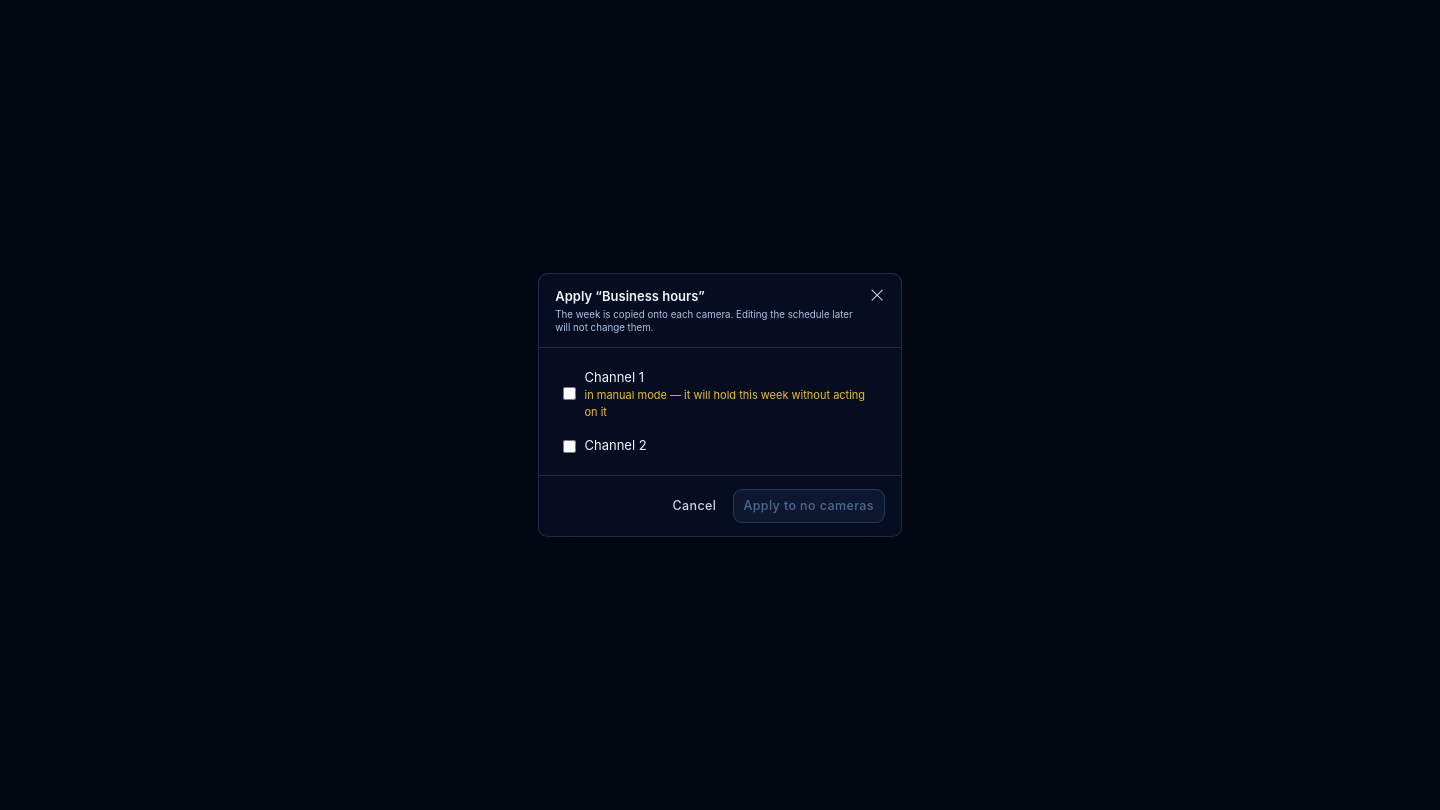
it: before the button is pressed › counts what is about to happen, in the right grammar
Expected: the button "Apply to no cameras" is shown, left=733, top=489, right=885, bottom=523
Expected: the text "Channel 1" is shown, left=584, top=369, right=644, bottom=385
Click the 1st checkbox: (570, 394) left=563, top=387, right=576, bottom=400
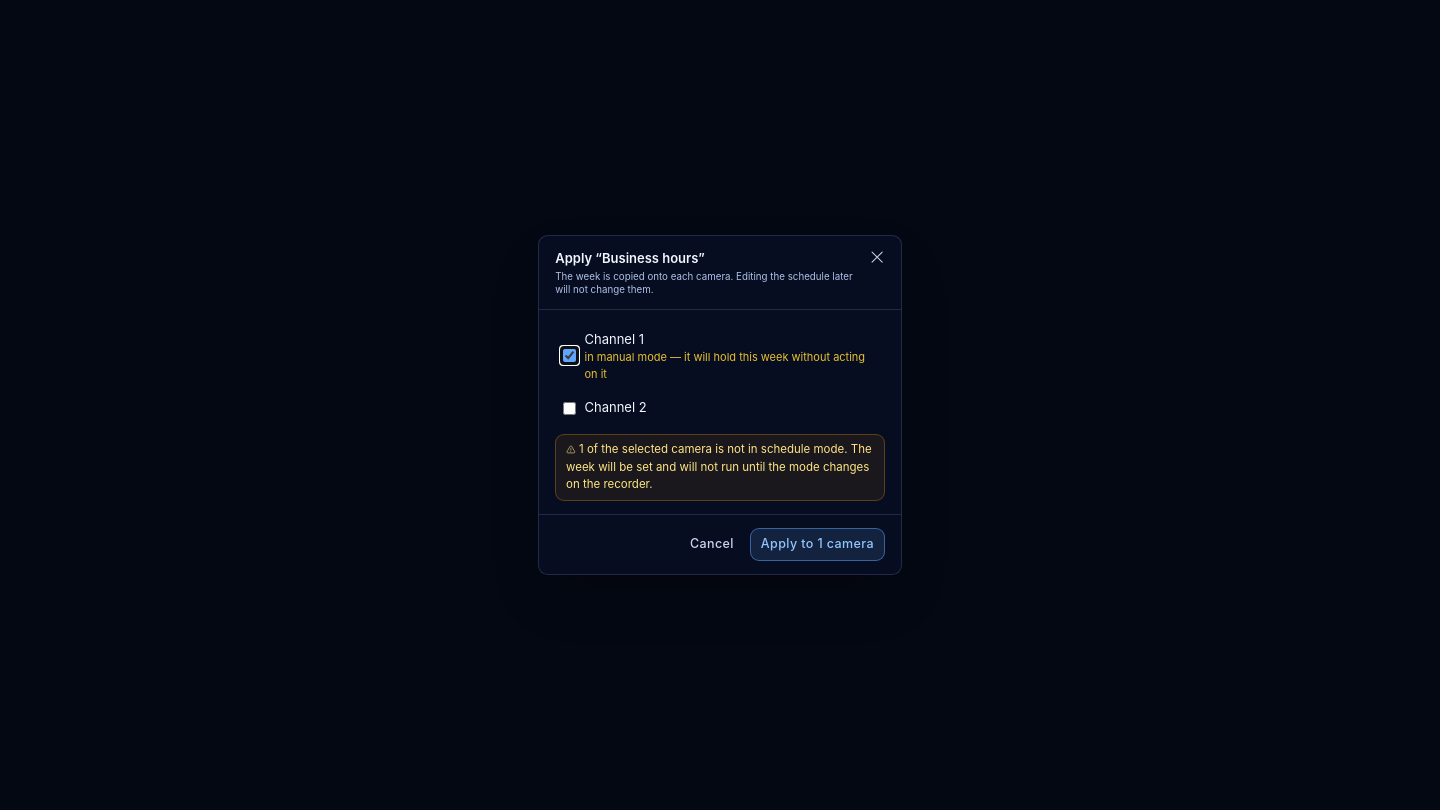
Expected: the button "Apply to 1 camera" is shown, left=750, top=528, right=885, bottom=561
Click the checkbox labelled "Channel 2": (570, 408) left=563, top=401, right=576, bottom=414
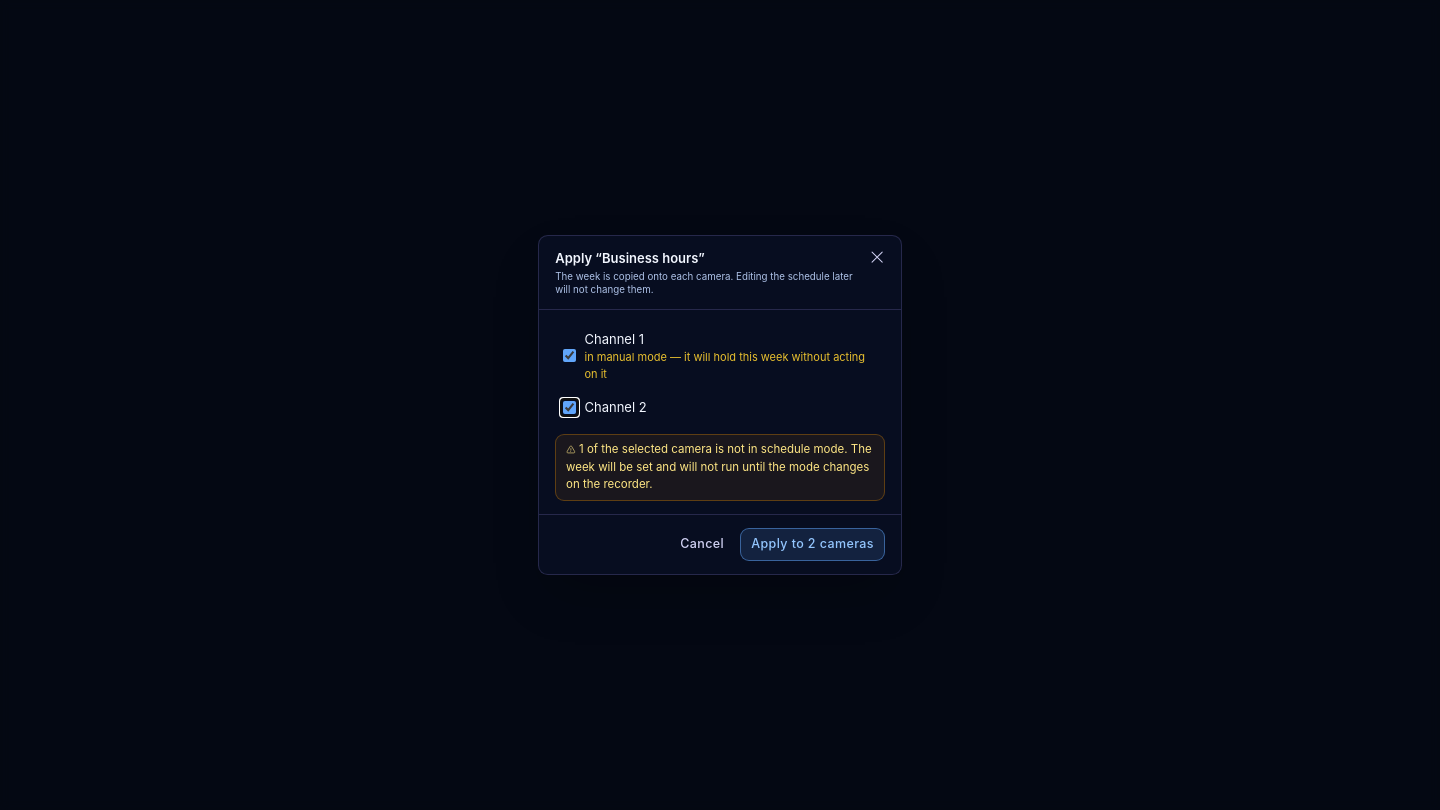
Expected: the button "Apply to 2 cameras" is shown, left=740, top=528, right=885, bottom=561
